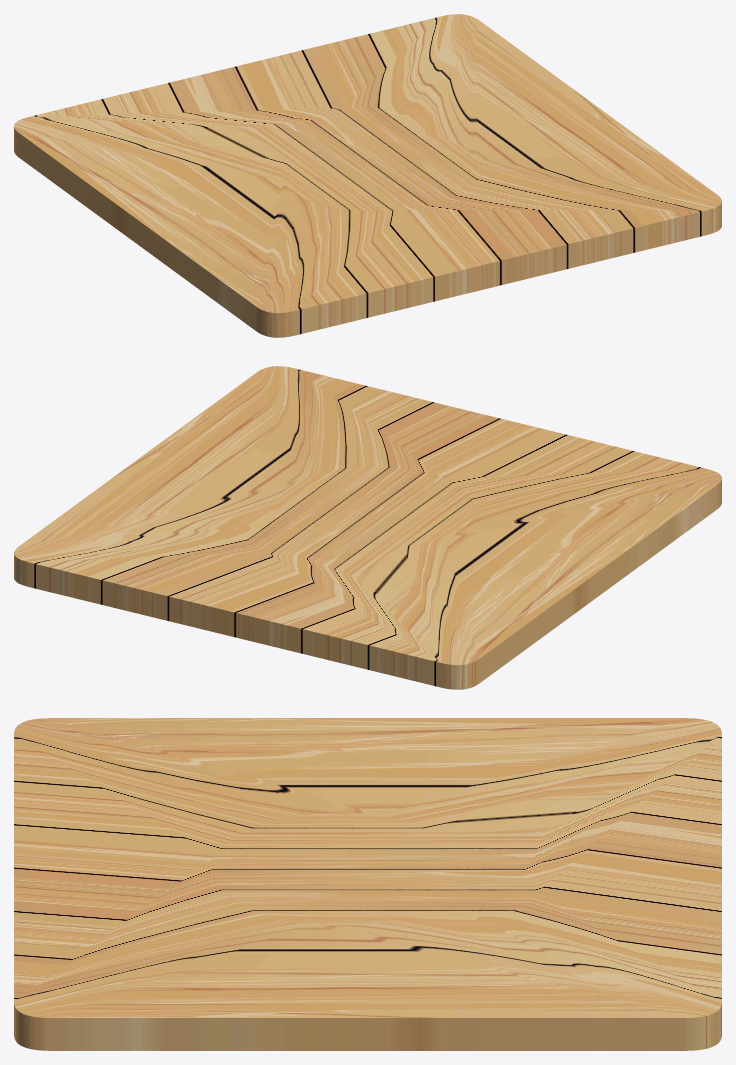
Rendered from coconotLevel.fbx.
3 renders of one model, top to bottom at view 1: azimuth 30°, elevation 25°; view 2: azimuth 150°, elevation 25°; view 3: azimuth 270°, elevation 25°, orthographic. The views are drawn at different scales.
Parts seen in each view (by area): view 1: coconot_outer, coconot_shapeshape; view 2: coconot_outer, coconot_shapeshape; view 3: coconot_outer, coconot_shapeshape.
Boxes of the visible parts, bbox=[...] form: coconot_outer: bbox=[14, 14, 721, 337]; coconot_shapeshape: bbox=[252, 106, 479, 211]; coconot_outer: bbox=[14, 366, 721, 689]; coconot_shapeshape: bbox=[248, 466, 476, 575]; coconot_outer: bbox=[14, 718, 721, 1050]; coconot_shapeshape: bbox=[212, 812, 543, 925].
Bounding box in the file's own units: 1243 × 63.64 × 1240.
Materials: 1 (1 with a texture image).
